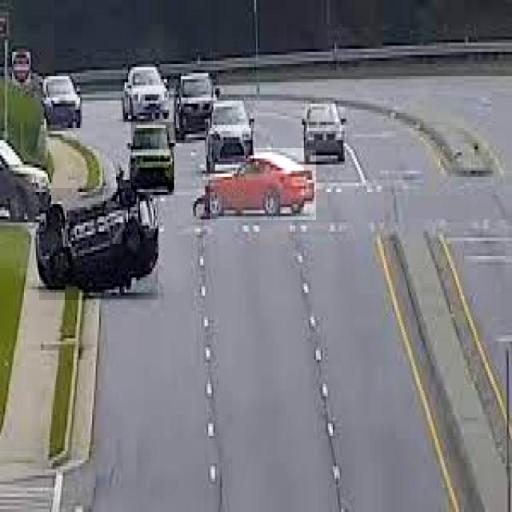小汽车: (39, 188, 158, 300), (210, 148, 316, 220), (131, 122, 174, 190), (212, 99, 254, 162), (179, 74, 219, 136), (126, 67, 170, 115), (42, 74, 81, 124), (305, 104, 345, 150)
